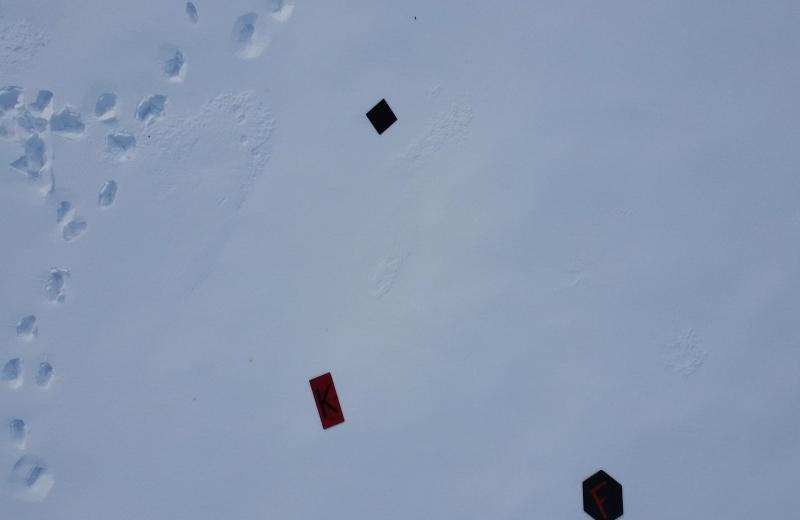Hexagon: (581, 469, 625, 519)
Rectangle: (308, 374, 346, 430)
Square: (364, 99, 398, 136)
